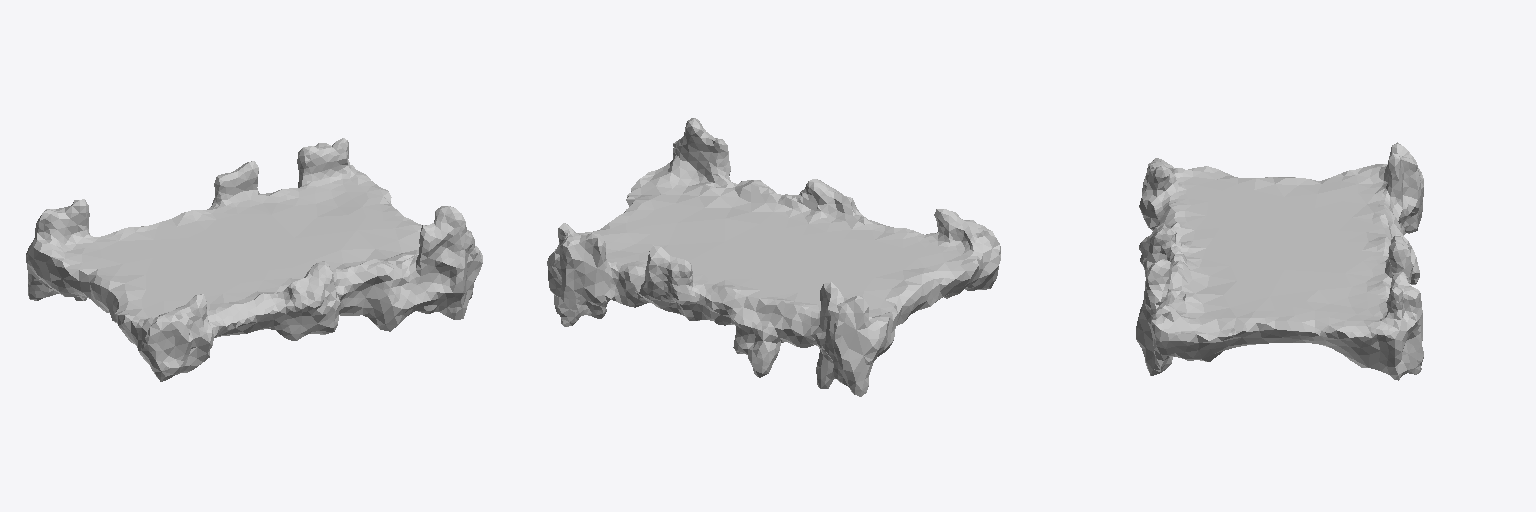
File: puente.obj
The picture shows the model from 3 angles: view 1: azimuth 30°, elevation 25°; view 2: azimuth 150°, elevation 25°; view 3: azimuth 270°, elevation 25°; orthographic projection.
Parts seen in each view (by area): view 1: Stone_Bridge_Obj; view 2: Stone_Bridge_Obj; view 3: Stone_Bridge_Obj.
Boxes of the visible parts, <box> form: Stone_Bridge_Obj: <box>26,138,482,381</box>; Stone_Bridge_Obj: <box>547,118,1000,396</box>; Stone_Bridge_Obj: <box>1136,142,1423,380</box>.
Bounding box in the file's own units: 123 × 41.42 × 88.65.